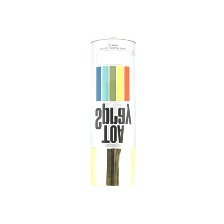aerosol_cans: (85, 33, 138, 193)
